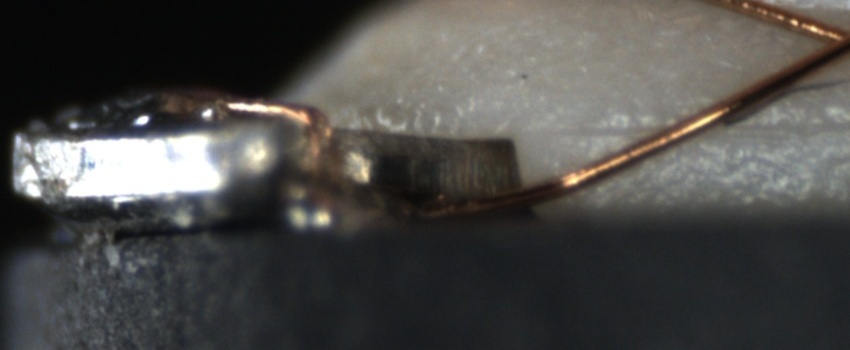CL: (798, 12, 850, 75)
DL: (573, 100, 849, 159)
TE: (192, 94, 342, 184)
